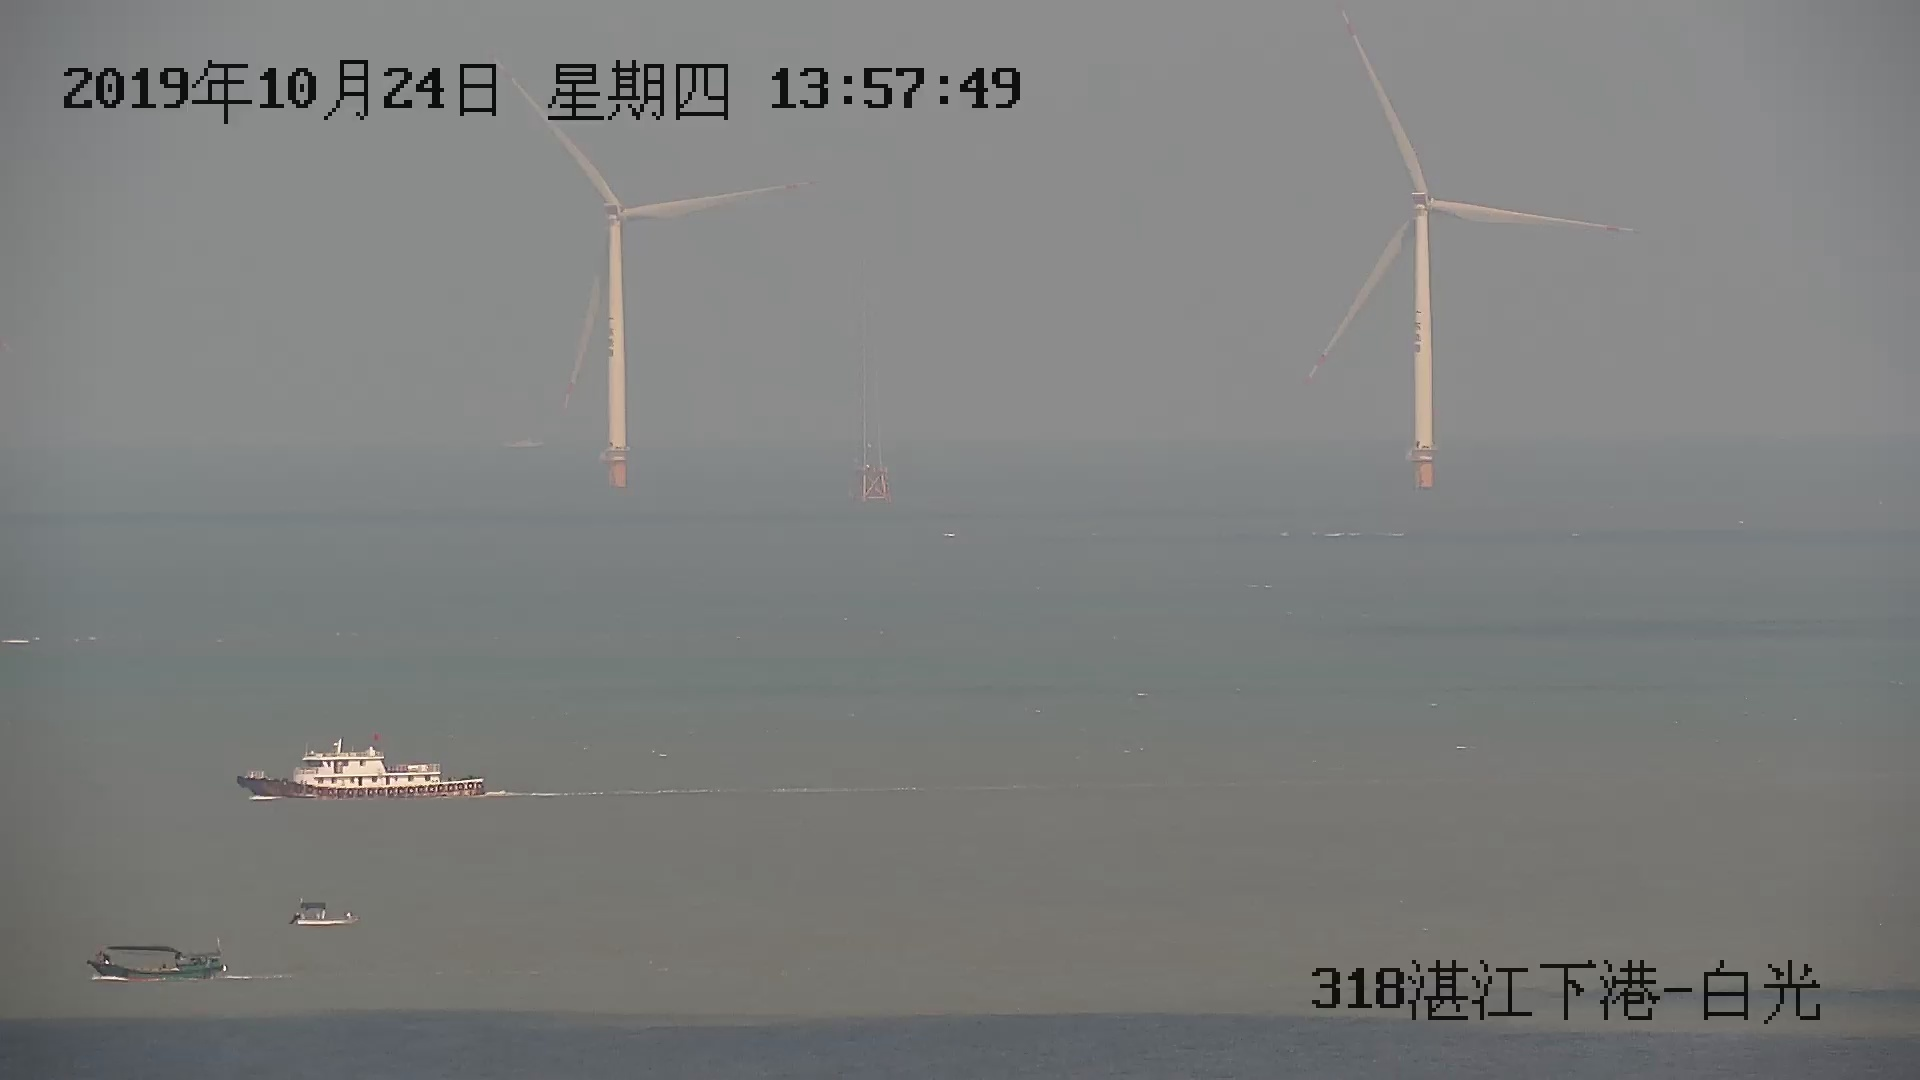ship: (236, 733, 491, 799), (83, 944, 222, 981), (289, 905, 360, 930)
